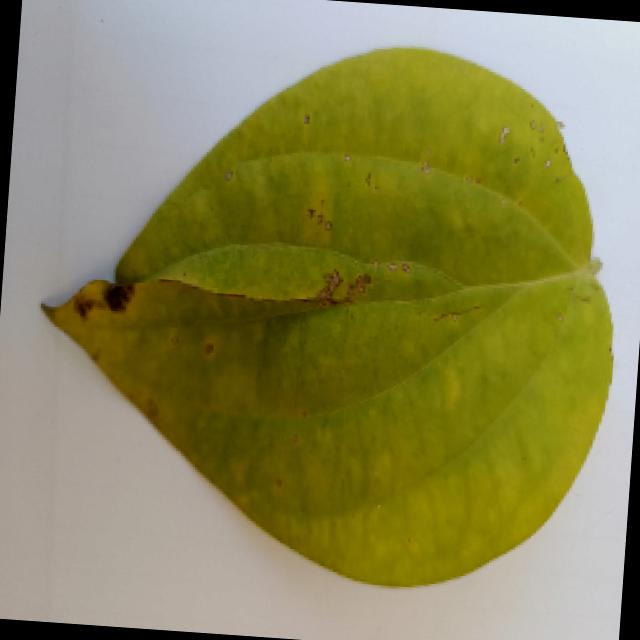slow-decline: (18, 13, 626, 592)
